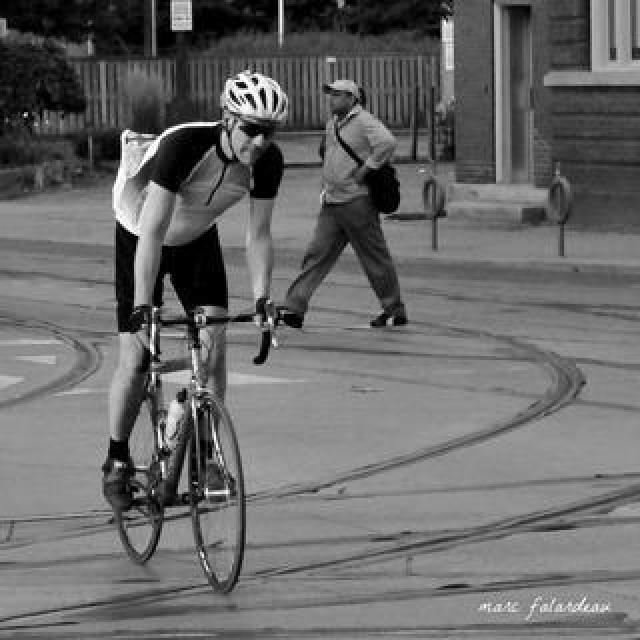MC-Bike: (102, 74, 290, 534), (272, 76, 408, 338)
Person: (102, 296, 258, 580)
